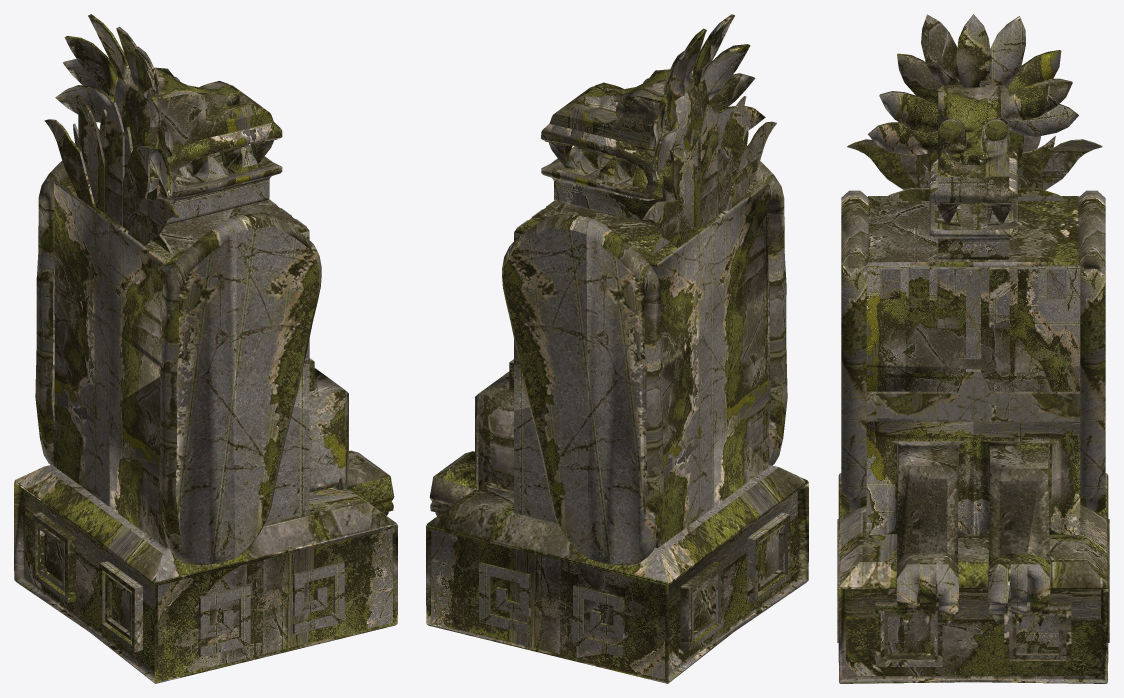
Rendered from serpent_stele.gltf.
3 views of the same model, side by side, from view 1: azimuth 30°, elevation 25°; view 2: azimuth 150°, elevation 25°; view 3: azimuth 270°, elevation 25° (orthographic). The views are drawn at different scales.
Visible parts, largest first — view 1: serpent_stele; view 2: serpent_stele; view 3: serpent_stele.
Boxes of the visible parts, left/top/right/bottom form: serpent_stele: left=14, top=14, right=397, bottom=683; serpent_stele: left=426, top=14, right=808, bottom=683; serpent_stele: left=837, top=14, right=1109, bottom=683.
Bounding box in the file's own units: 1.37 × 2.9 × 1.25.
Materials: 1 (1 with a texture image).
